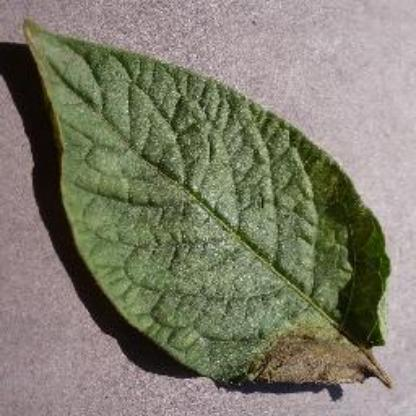Late-Blight: (12, 12, 400, 384)
